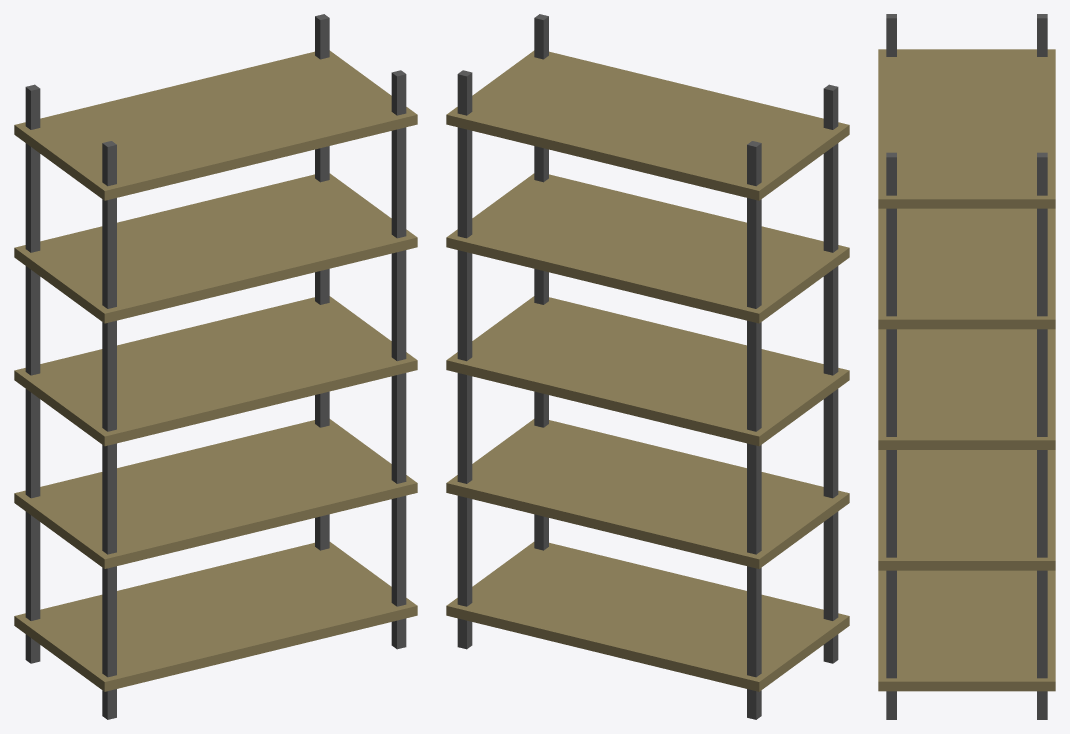
The model's file is Standing Shelf.fbx.
3 views of the same model, side by side, from view 1: azimuth 30°, elevation 25°; view 2: azimuth 150°, elevation 25°; view 3: azimuth 270°, elevation 25° (orthographic).
Visible parts, largest first — view 1: Standing Shelf; view 2: Standing Shelf; view 3: Standing Shelf.
Boxes of the visible parts, x1,y1,x2,y2 form: Standing Shelf: [14, 14, 417, 719]; Standing Shelf: [446, 14, 849, 719]; Standing Shelf: [878, 14, 1055, 719].
Size of the model in its own units: 800 by 1400 by 400.
